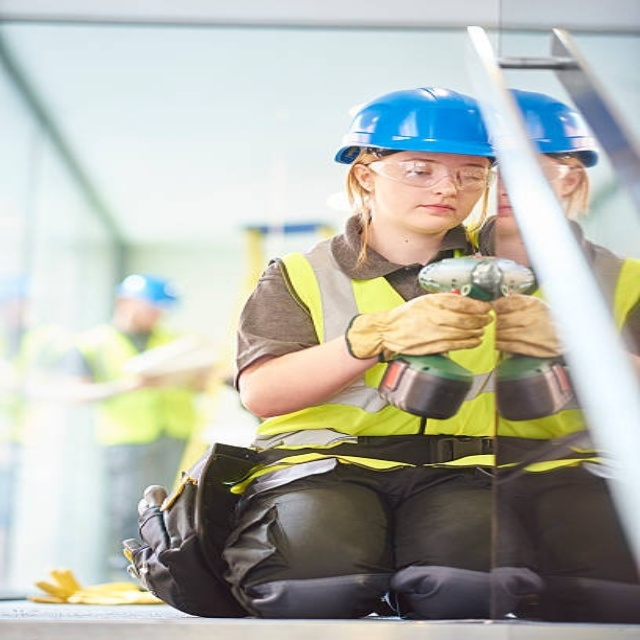Gafas: (365, 157, 497, 192), (546, 157, 580, 185)
Guantes: (340, 292, 489, 366), (491, 292, 565, 359)
Sin_mascara: (409, 201, 461, 223), (496, 202, 515, 229)
